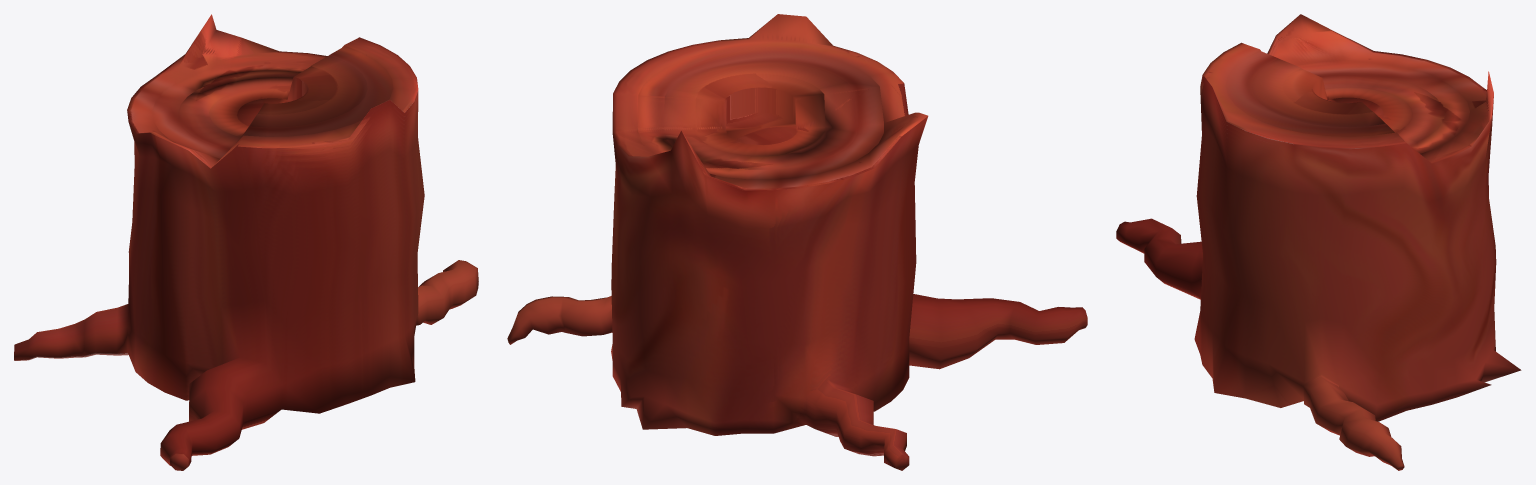
The model's file is Tronco.fbx.
The picture shows the model from 3 angles, left to right: view 1: azimuth 30°, elevation 25°; view 2: azimuth 150°, elevation 25°; view 3: azimuth 270°, elevation 25°; orthographic projection. The views are drawn at different scales.
Visible parts, largest first — view 1: Tronco; view 2: Tronco; view 3: Tronco.
Part boxes in pixels (x1=…): Tronco: x1=14, y1=14, x2=478, y2=470; Tronco: x1=507, y1=14, x2=1087, y2=470; Tronco: x1=1116, y1=14, x2=1521, y2=470.
Bounding box in the file's own units: 343 × 225 × 275.
1 material, 1 textured.
